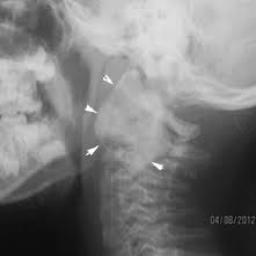cancer: (94, 70, 174, 181)
